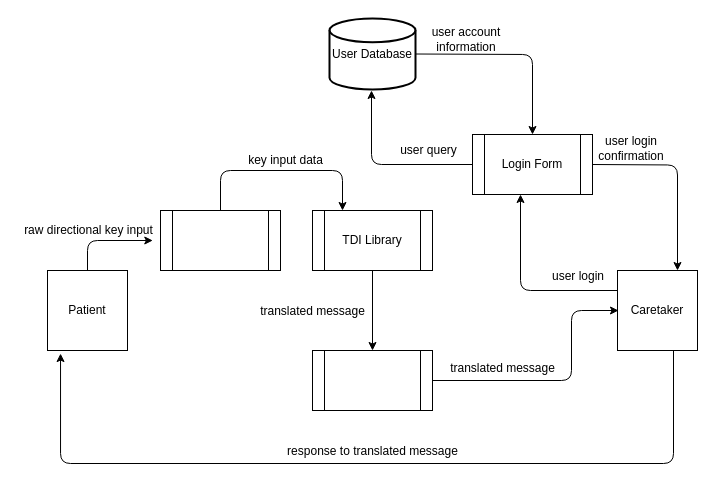
The diagram is 715 pixels wide and 489 high, and some of its shapes have lost their labels. The shapes that lost their labels are listed below. From the top down, each one's box as (x1, y1, x2, y2) in pixels, then its label:
(160, 210, 280, 270): Input Device
(312, 350, 432, 410): Console UI
